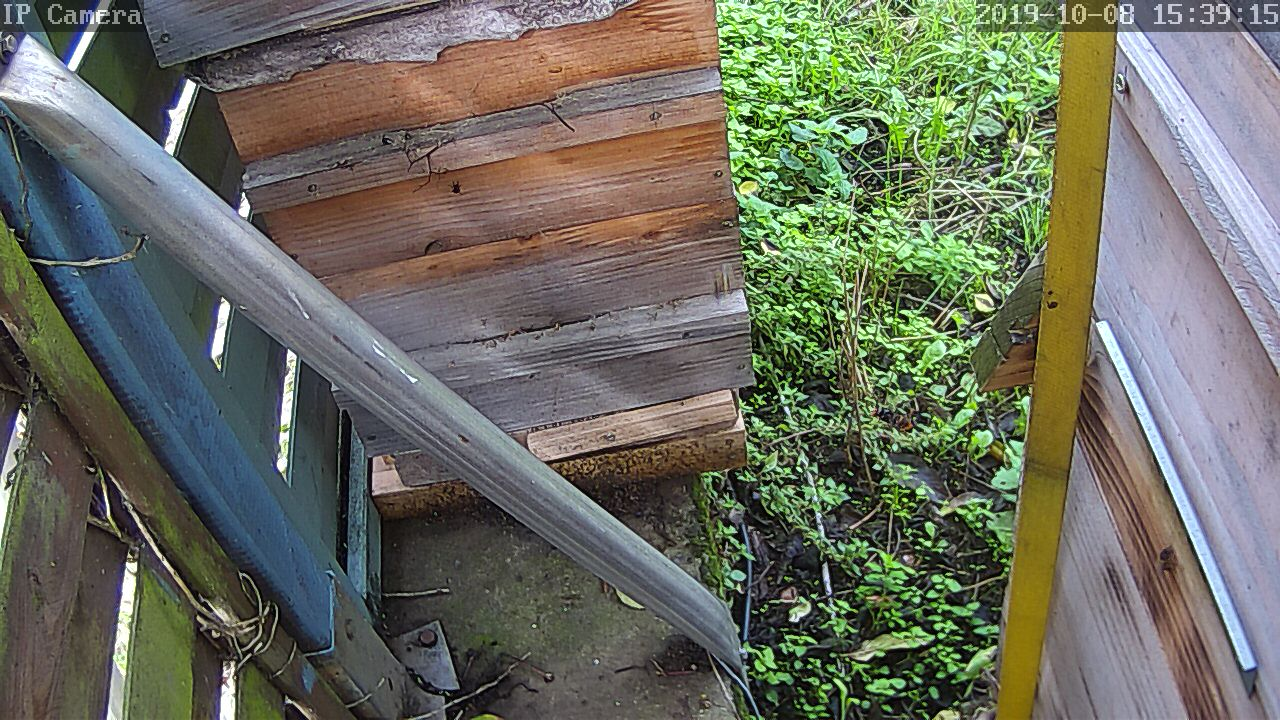bee: (1142, 537, 1181, 576)
hornet: (830, 440, 867, 487)
